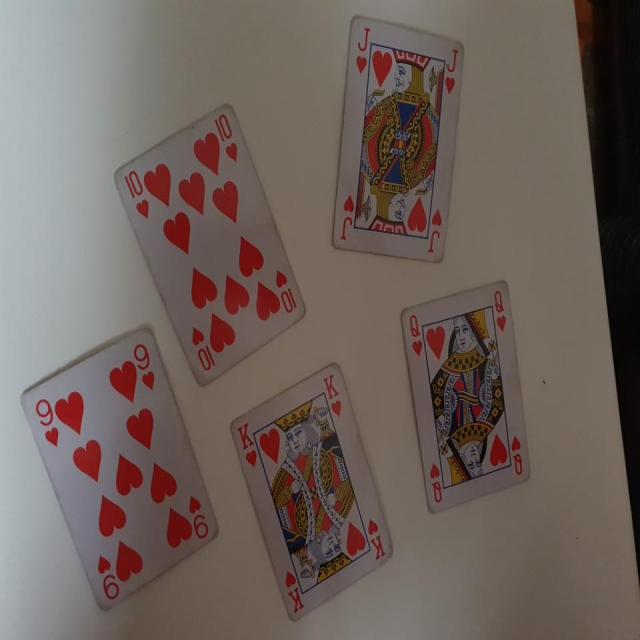10 Hearts: (112, 98, 314, 386)
9 Hearts: (24, 329, 225, 620)
J Hearts: (326, 12, 472, 274)
K Hearts: (220, 356, 396, 628)
Q Hearts: (395, 276, 538, 518)
